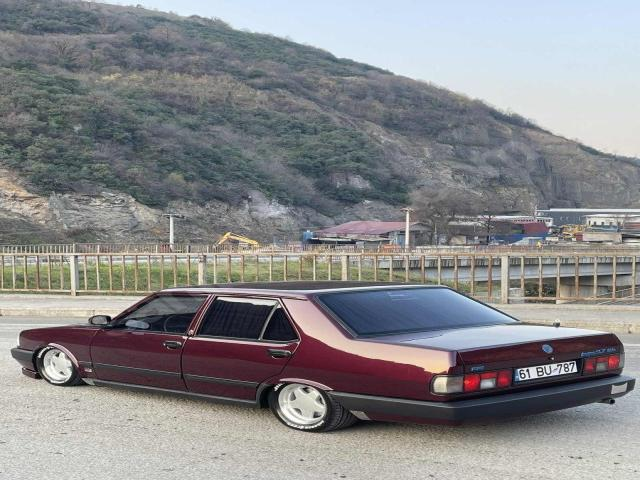plaka: (515, 361, 578, 382)
